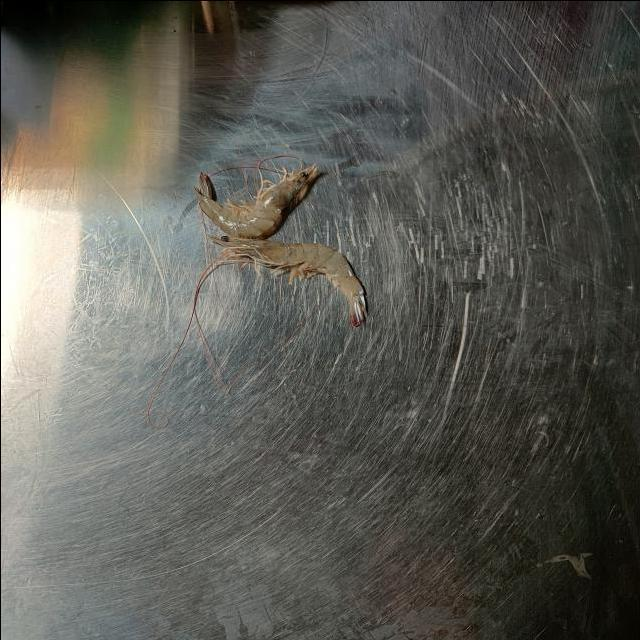shrimp: (209, 235, 367, 326), (196, 165, 317, 239)
